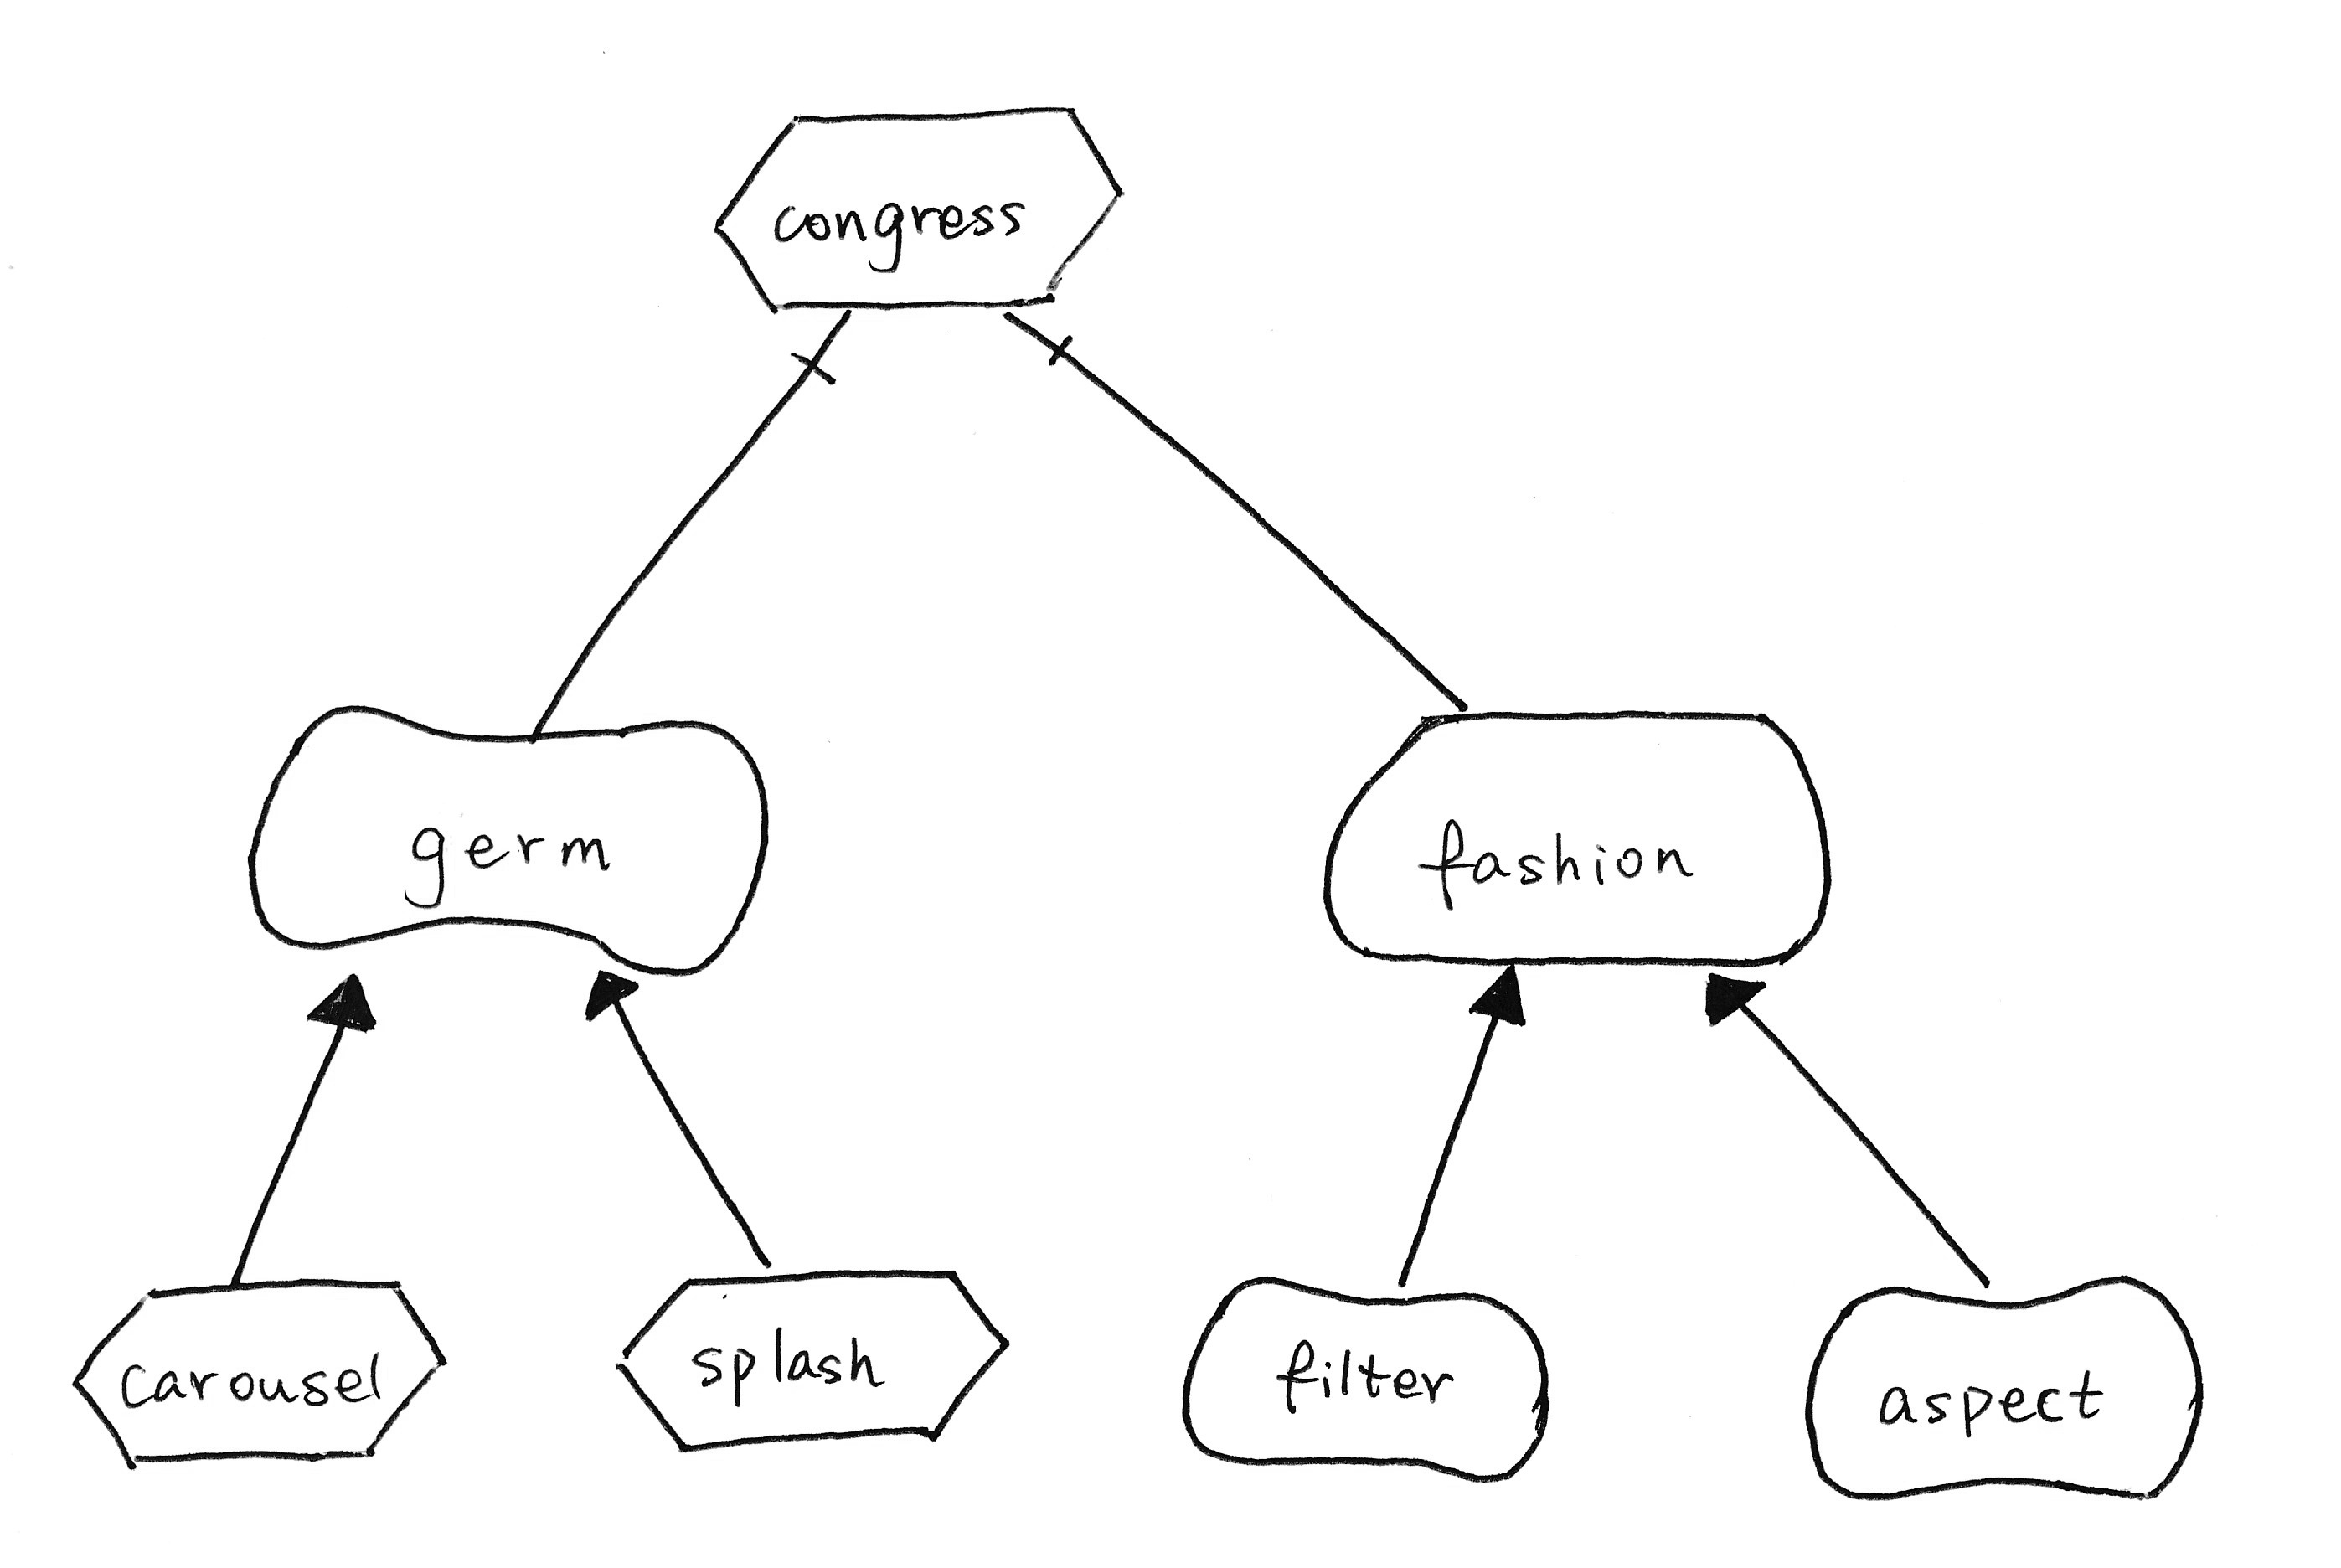and: (983, 291, 1094, 389), (784, 292, 866, 404)
goal: (1298, 686, 1860, 1001)
or: (296, 952, 392, 1062), (562, 954, 660, 1040), (1685, 954, 1776, 1040), (1452, 952, 1538, 1041)
quality: (226, 686, 789, 999), (1786, 1255, 2224, 1517), (1160, 1256, 1571, 1501)
task: (702, 84, 1144, 334), (59, 1256, 462, 1488), (600, 1244, 1025, 1461)
